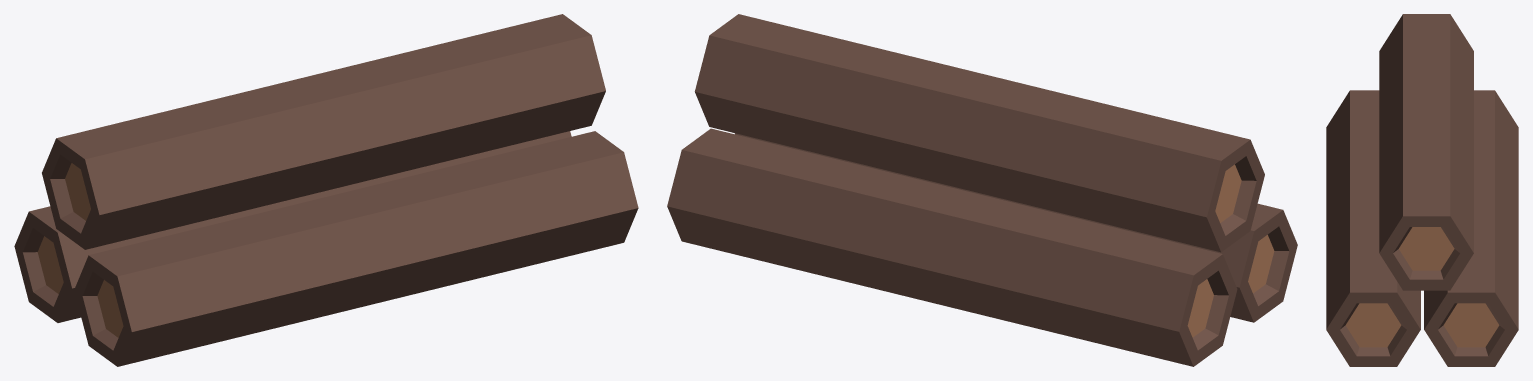
The model's file is Trunk_02.fbx.
3 renders of one model, left to right at view 1: azimuth 30°, elevation 25°; view 2: azimuth 150°, elevation 25°; view 3: azimuth 270°, elevation 25°, orthographic. The views are drawn at different scales.
Visible parts, largest first — view 1: Trunk_02; view 2: Trunk_02; view 3: Trunk_02.
Part boxes in pixels (x1,y1,x2,y2): Trunk_02: [14, 14, 638, 366]; Trunk_02: [667, 14, 1297, 366]; Trunk_02: [1326, 14, 1518, 366].
Size of the model in its own units: 270 by 94.07 by 109.
